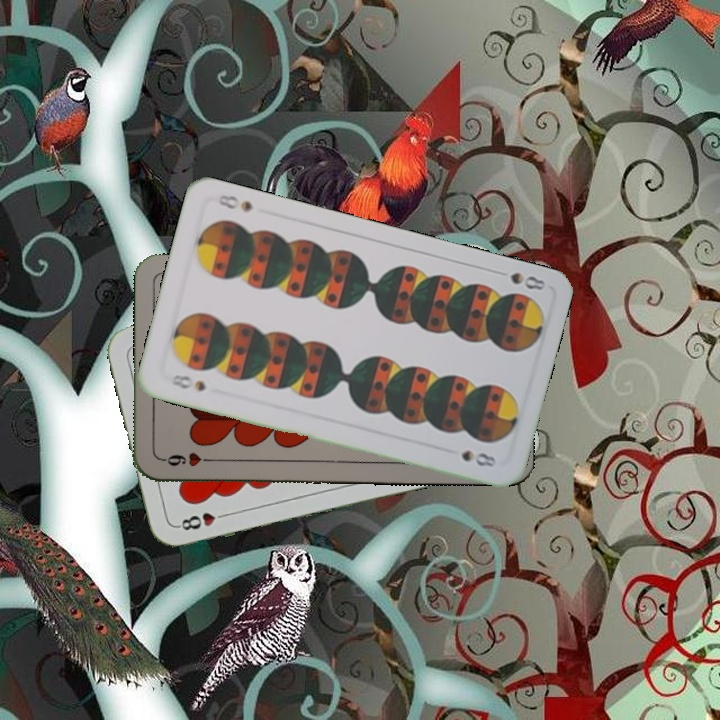H8: (174, 508, 232, 533)
H9: (158, 448, 217, 469)
S8: (490, 266, 548, 293), (165, 370, 208, 394)
